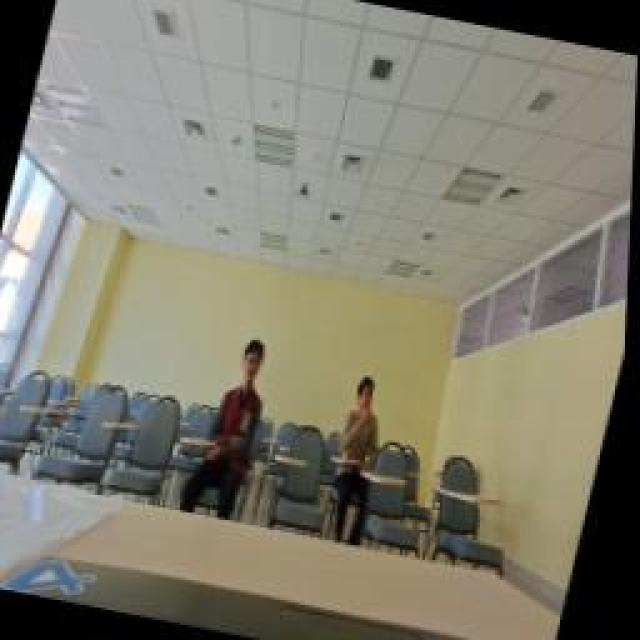study: (210, 332, 282, 452), (340, 370, 400, 465)
